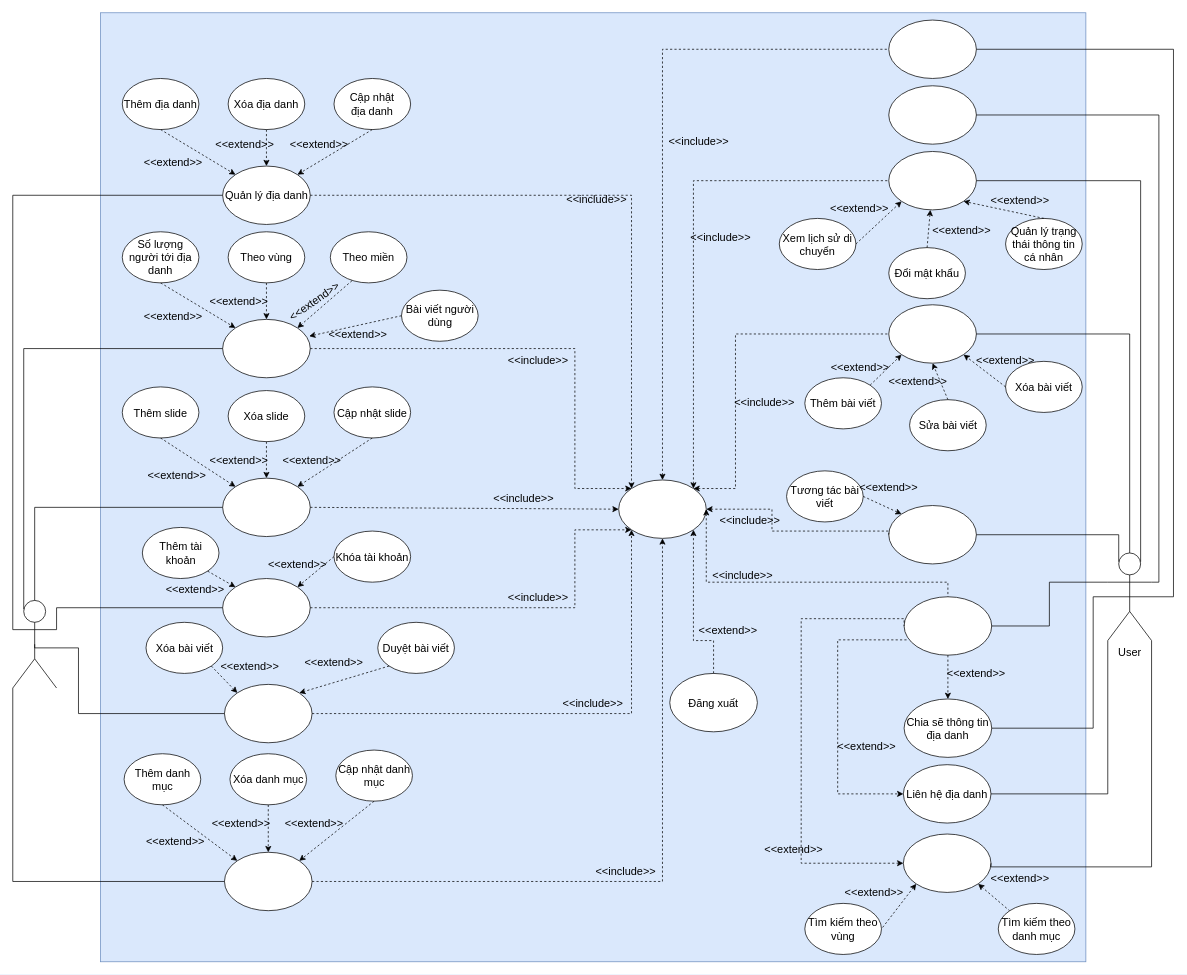
Some shapes in this 1187 by 975 pixel diagram are drawn without their labels. The shapes that lost their labels are listed below. From the top down, each one's centre as x and y in pixels, then its label:
pixel 932 48: Gửi thông tin địa danh
pixel 932 114: Đăng ký
pixel 932 180: Quản lý thông tin cá nhân
pixel 266 348: Thống kê
pixel 932 333: Bài viết
pixel 266 507: Quản lý slideshow
pixel 662 508: Đăng nhập
pixel 932 534: Xem bài viết
pixel 266 607: Quản lý tài khoản
pixel 947 625: Xem thông tin địa danh
pixel 34 644: Admin
pixel 268 713: Quản lý bài viết
pixel 268 881: Quản lý danh mục
pixel 947 862: Tìm kiếm địa danh
